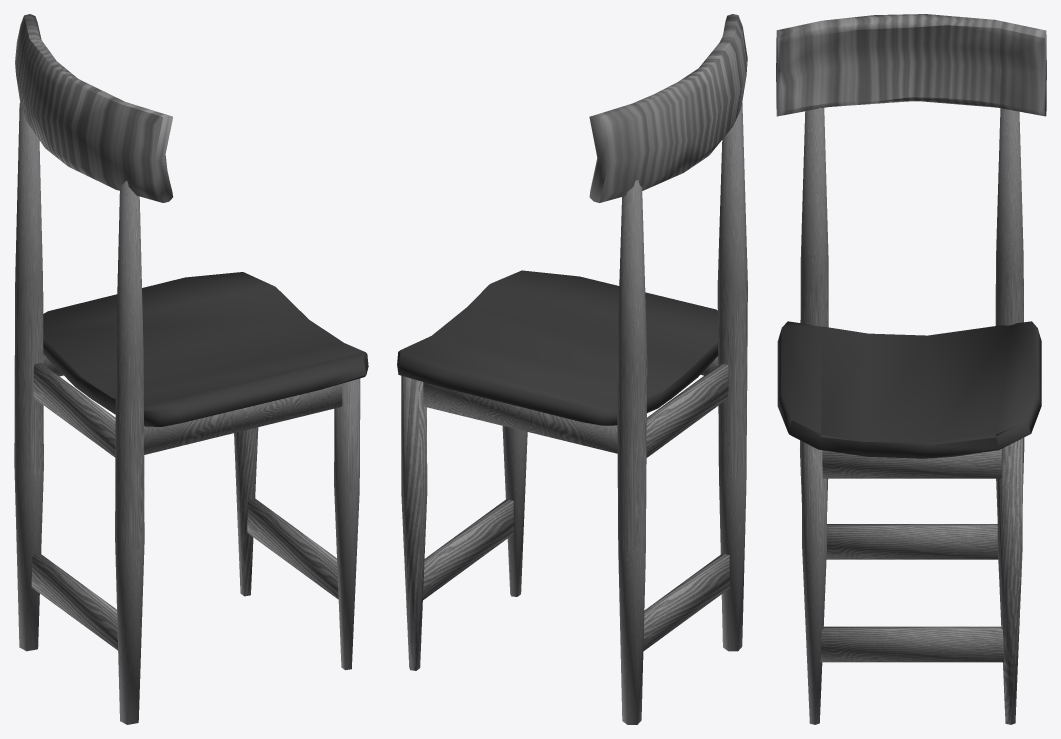
The model's file is SediaT.fbx.
3 renders of one model, left to right at view 1: azimuth 30°, elevation 25°; view 2: azimuth 150°, elevation 25°; view 3: azimuth 270°, elevation 25°, orthographic. The views are drawn at different scales.
Visible parts, largest first — view 1: GambaDietro.005; view 2: GambaDietro.005; view 3: GambaDietro.005.
Part boxes in pixels (x1,y1,x2,y2): GambaDietro.005: [14, 14, 368, 724]; GambaDietro.005: [397, 14, 747, 724]; GambaDietro.005: [776, 14, 1046, 724].
Bounding box in the file's own units: 45.89 × 100 × 41.14.
12 materials, 11 textured.
